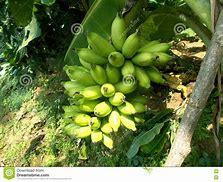banana: (52, 19, 176, 144), (74, 16, 168, 86), (43, 87, 147, 134)
